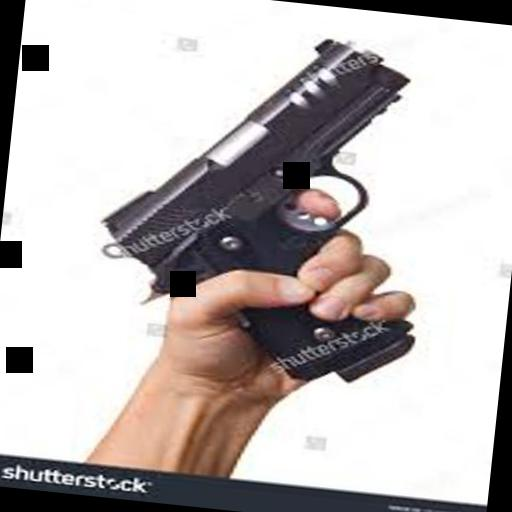Handgun: (81, 12, 447, 399)
